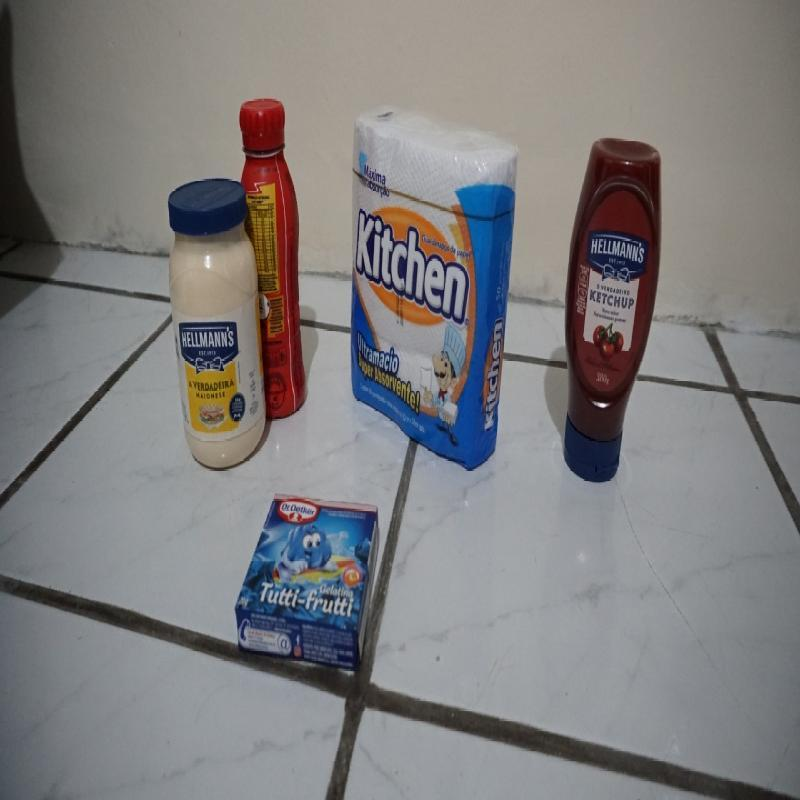Chocolate Milk: (235, 97, 310, 420)
Gelatine: (233, 490, 382, 668)
Ketchup: (560, 138, 664, 486)
Mayonnaise: (167, 176, 268, 472)
Napkin: (348, 104, 518, 465)
